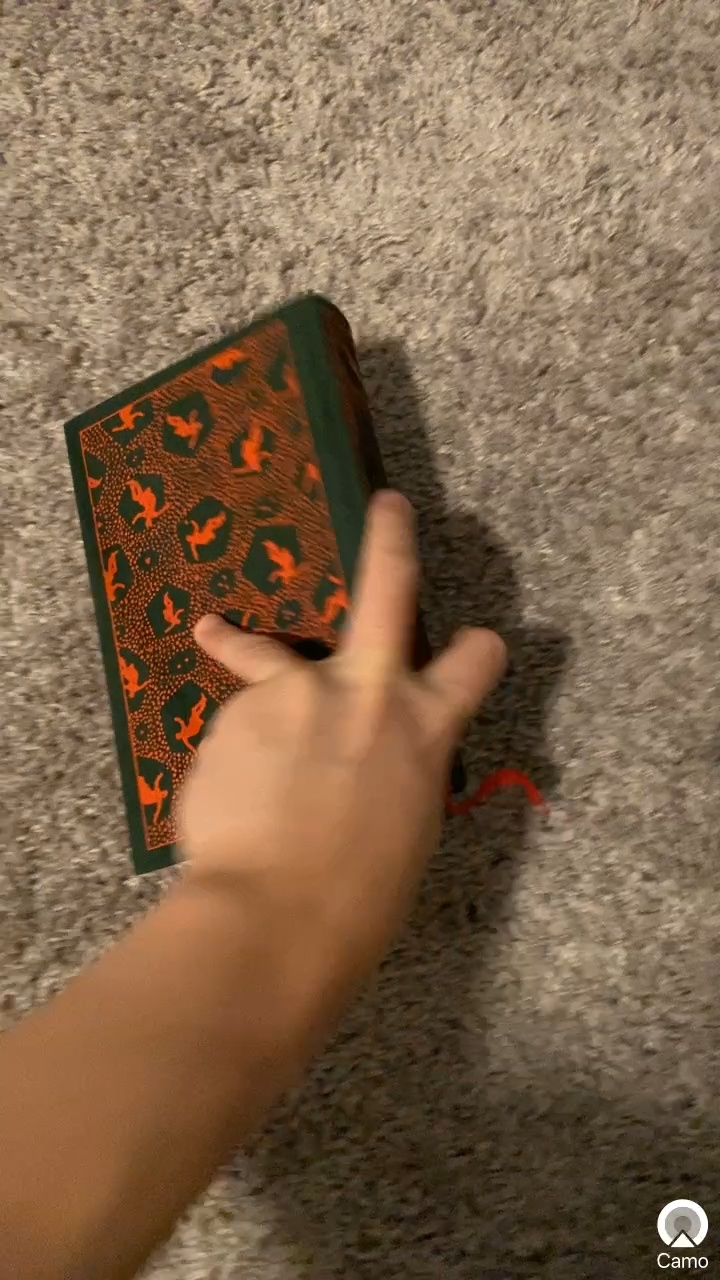Book: (74, 268, 466, 908)
